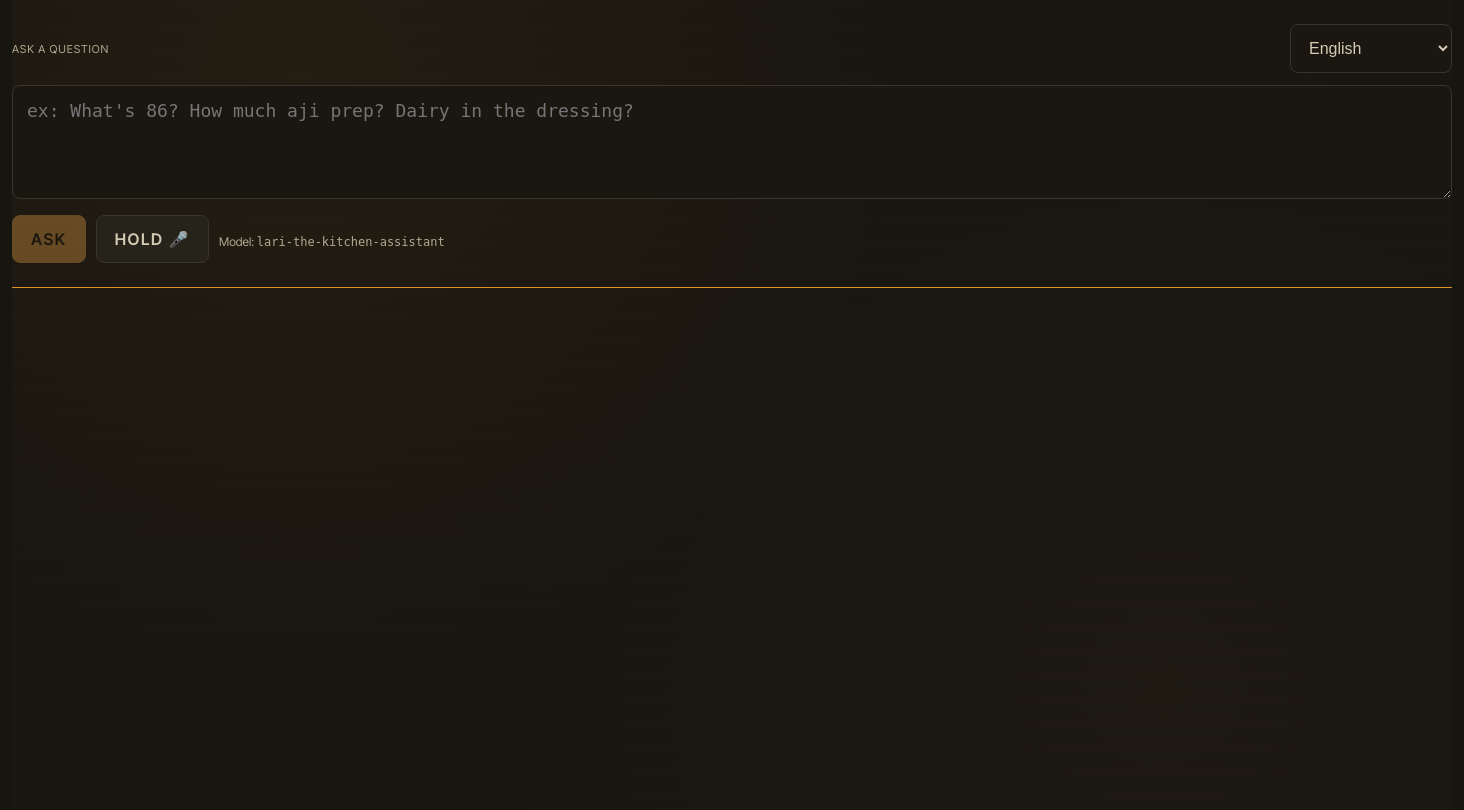
undo card shows terse error copy when the undo is rejected
This screenshot has width=1464, height=810.
Type "86 the salmon" into the text box labelled "Ask a question". click: (732, 142)
box: [12,85,1452,199]
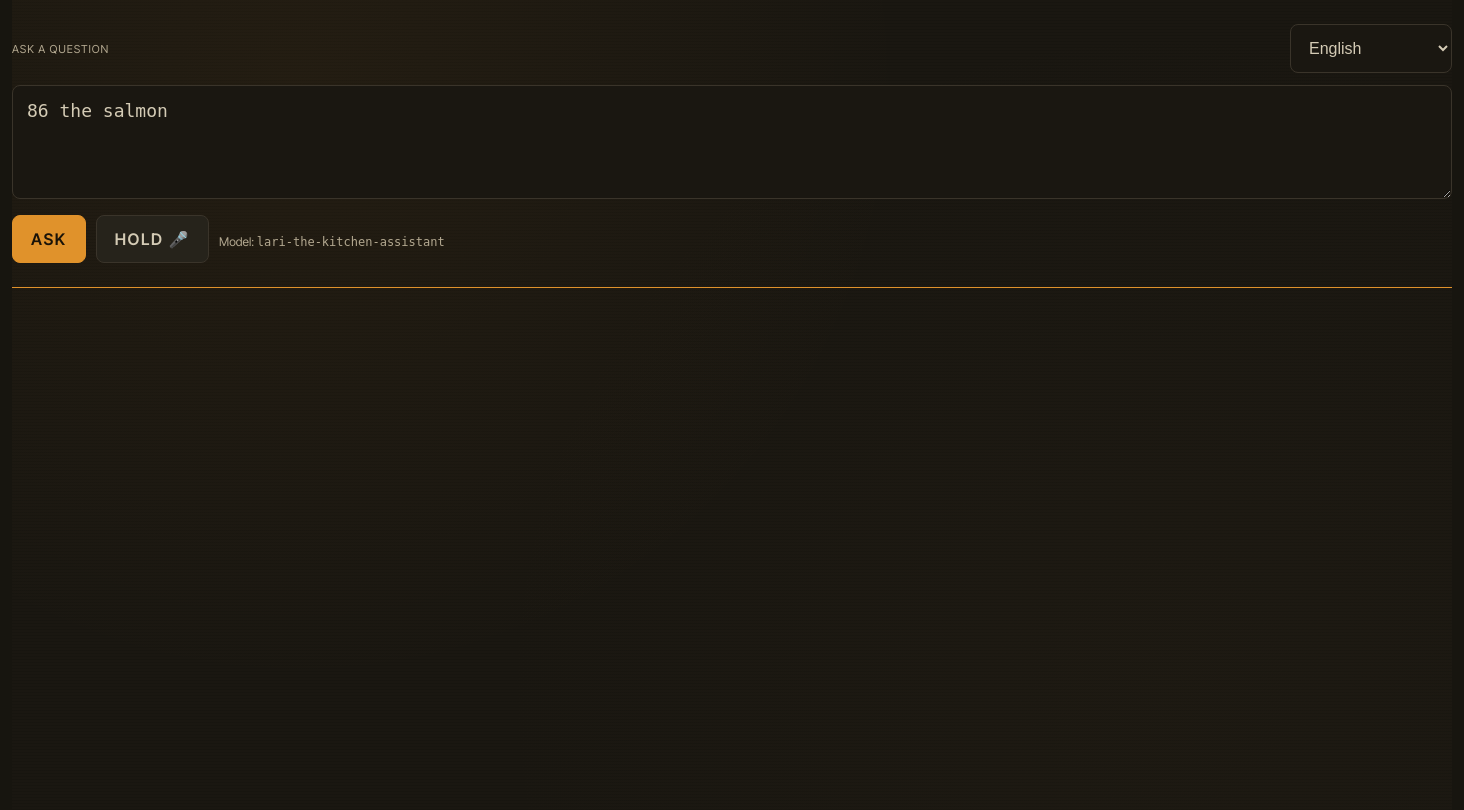
Click the button with aria-label "Ask kitchen assistant". click: (49, 239)
box: [12,215,86,263]
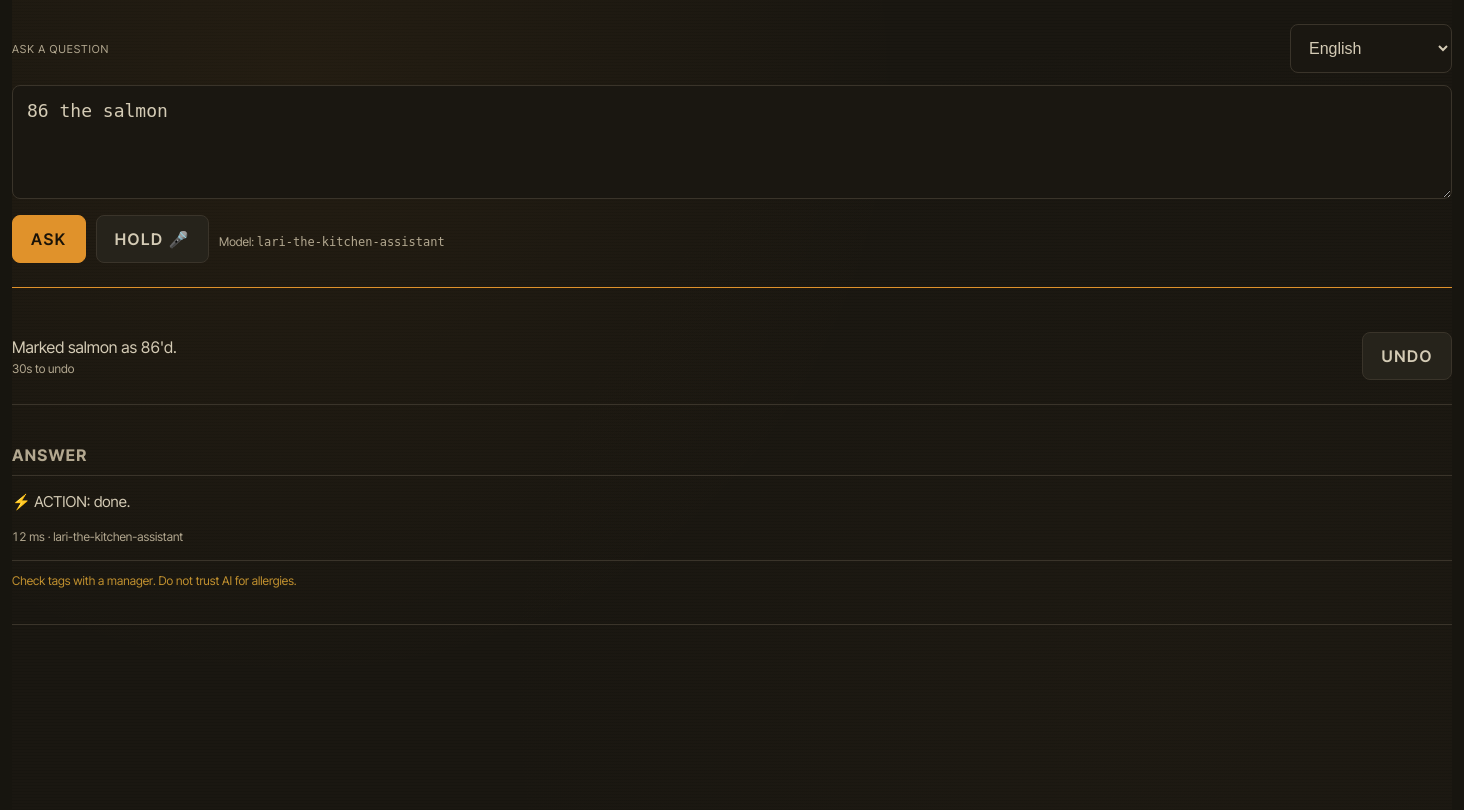
Click the button with aria-label "Undo last action". click: (1407, 356)
box: [1362,332,1452,380]
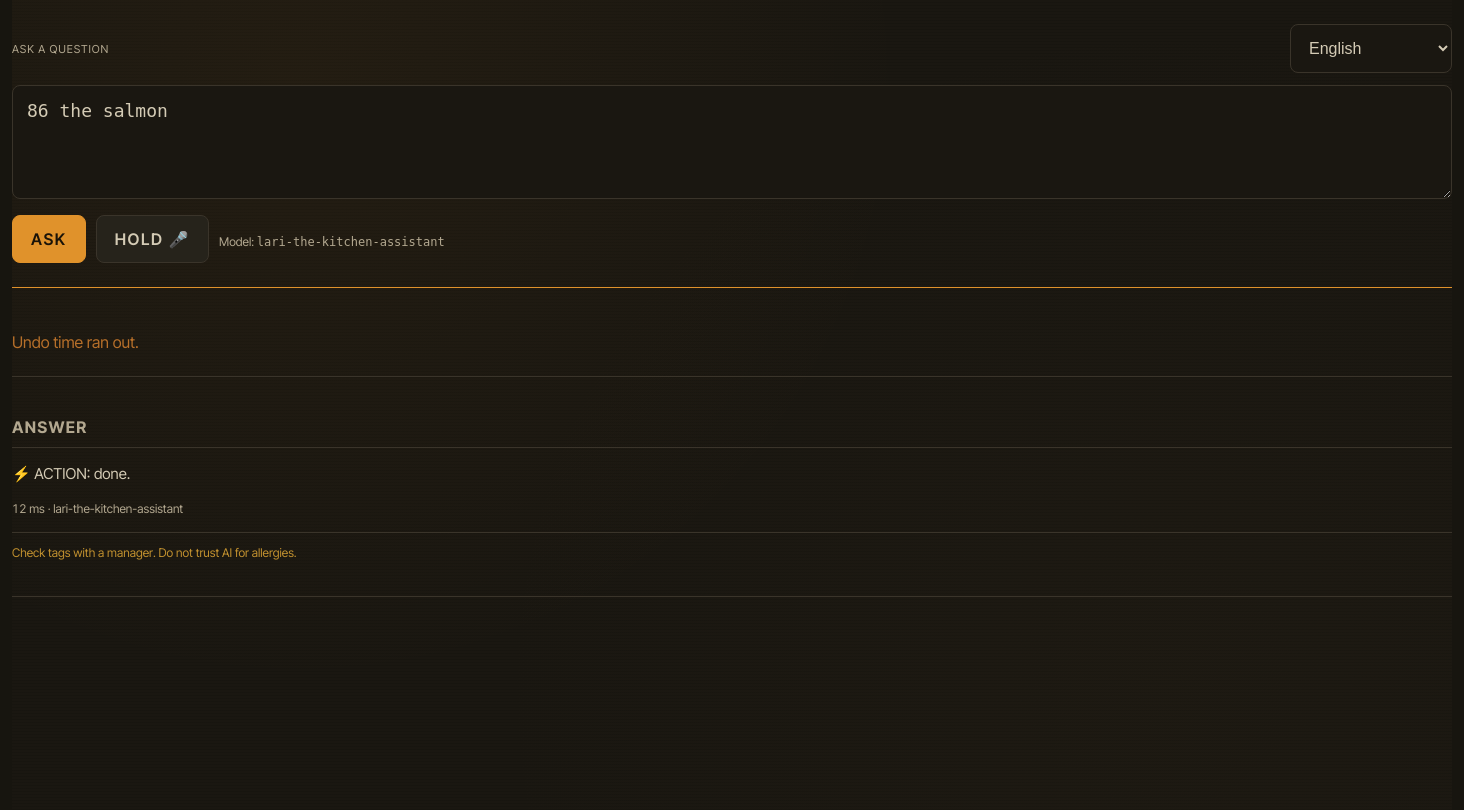
Check: the text "Undo time ran out." is shown, box [12,332,139,352]
